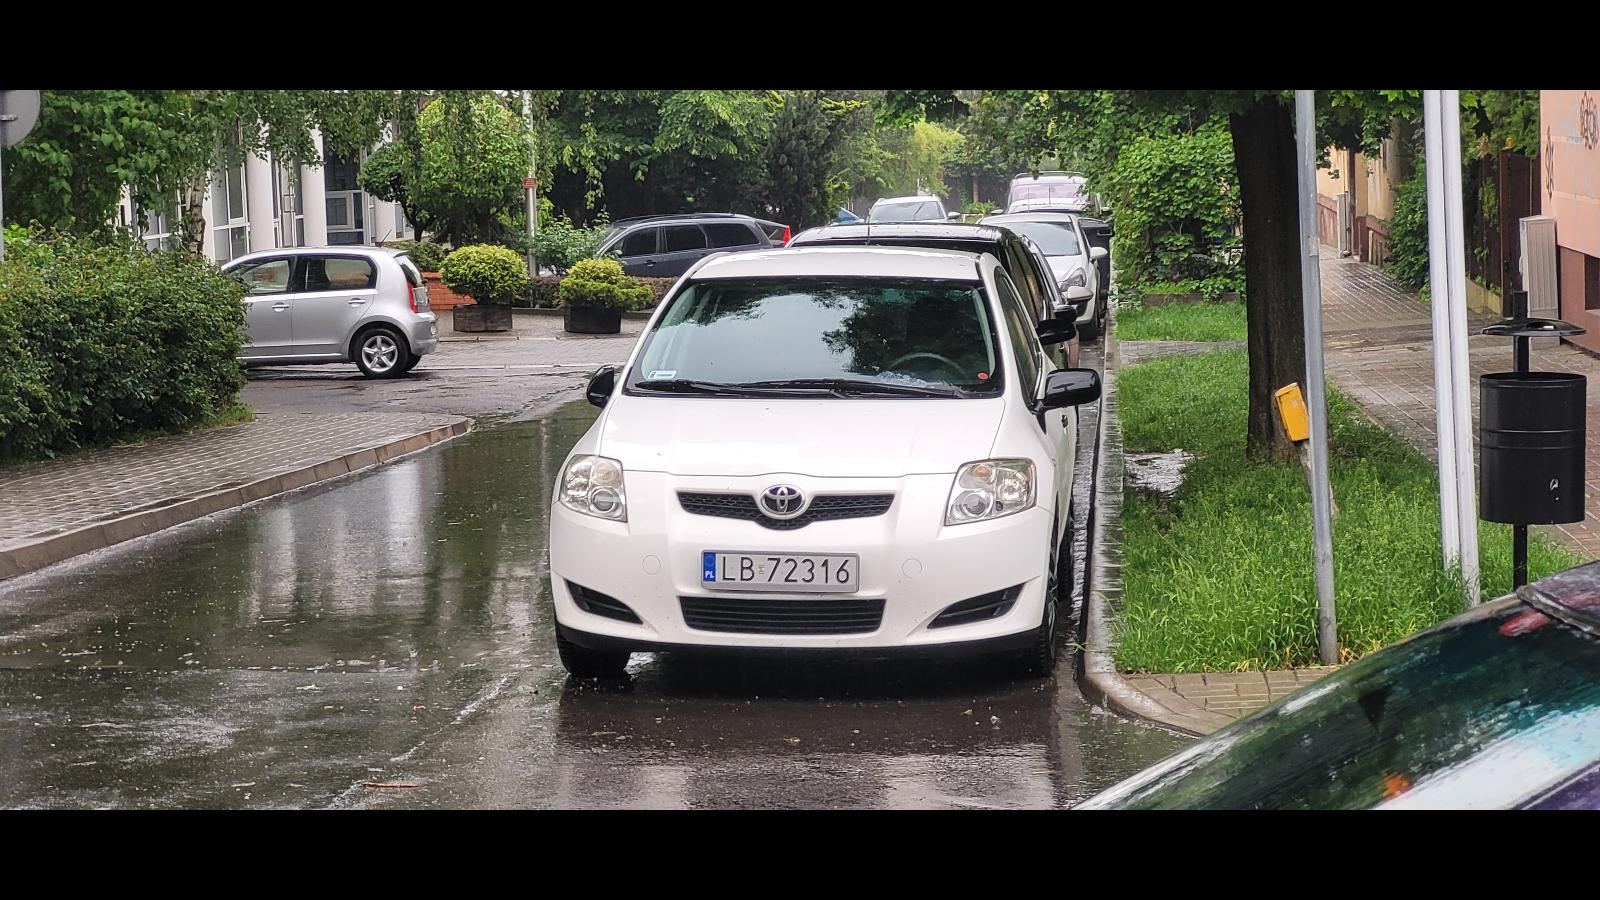plates: (700, 550, 860, 592)
